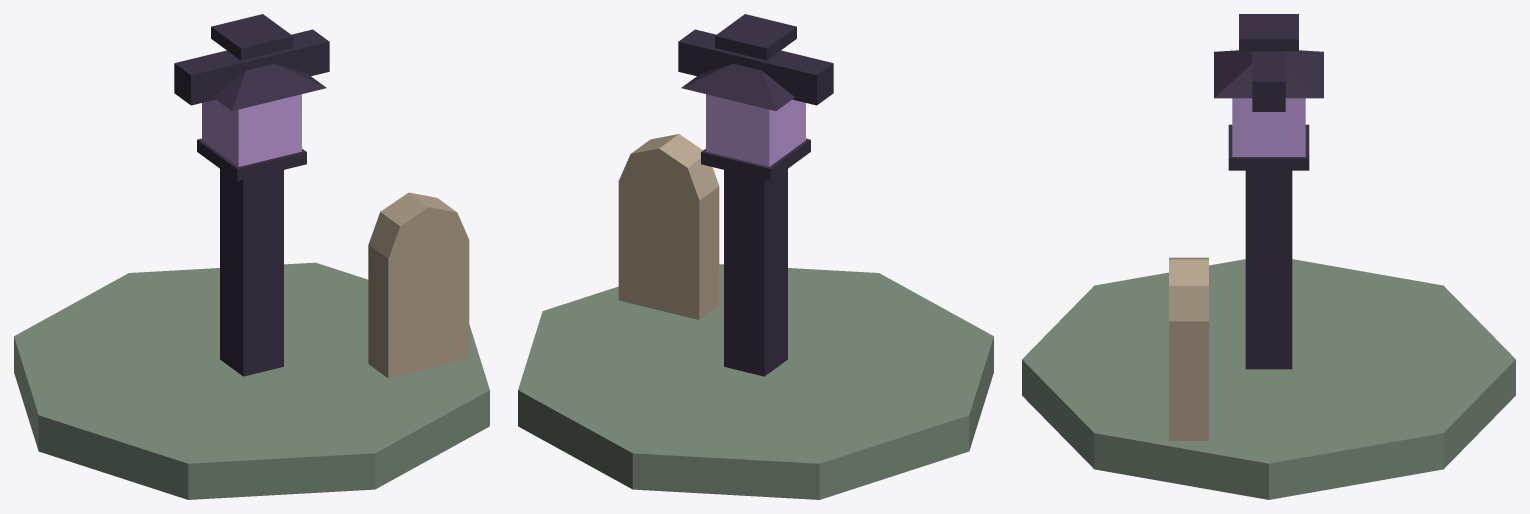
File: graveyard-landmark-s1.glb
The picture shows the model from 3 angles, left to right: view 1: azimuth 30°, elevation 25°; view 2: azimuth 150°, elevation 25°; view 3: azimuth 270°, elevation 25°; orthographic projection.
Visible parts, largest first — view 1: graveyard-landmark-s1; view 2: graveyard-landmark-s1; view 3: graveyard-landmark-s1.
Boxes of the visible parts, x1,y1,x2,y2 form: graveyard-landmark-s1: (14, 14, 489, 499); graveyard-landmark-s1: (518, 14, 993, 499); graveyard-landmark-s1: (1022, 14, 1515, 499).
Bounding box in the file's own units: 0.74 × 0.61 × 0.74.
